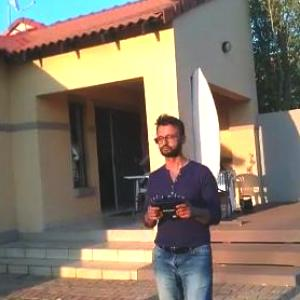follow: (144, 112, 221, 299)
